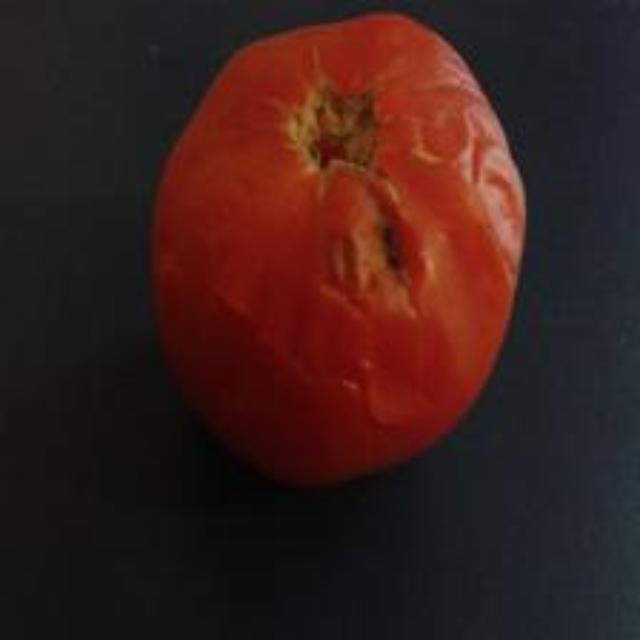defect: (145, 9, 532, 488)
